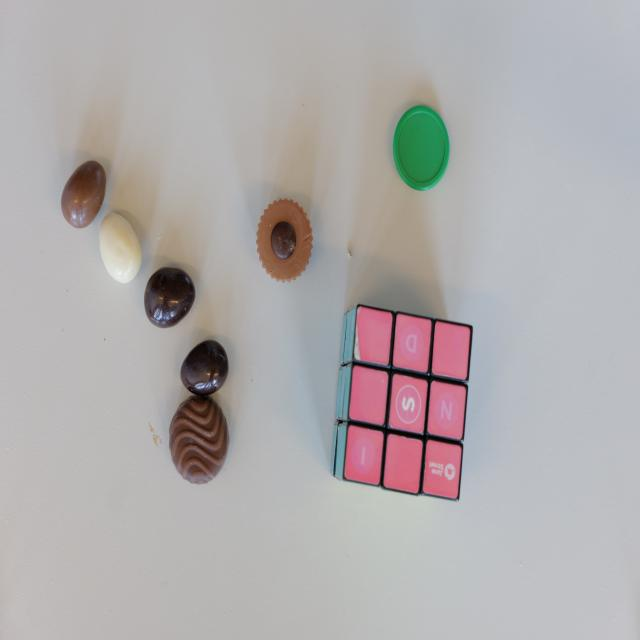Jelly_Black: (144, 265, 196, 327), (180, 339, 229, 397)
Jelly_Milk: (61, 159, 106, 228)
Jelly_White: (98, 212, 144, 284)
Noblesse: (256, 197, 314, 284)
Noir_authentique: (169, 396, 229, 483)
